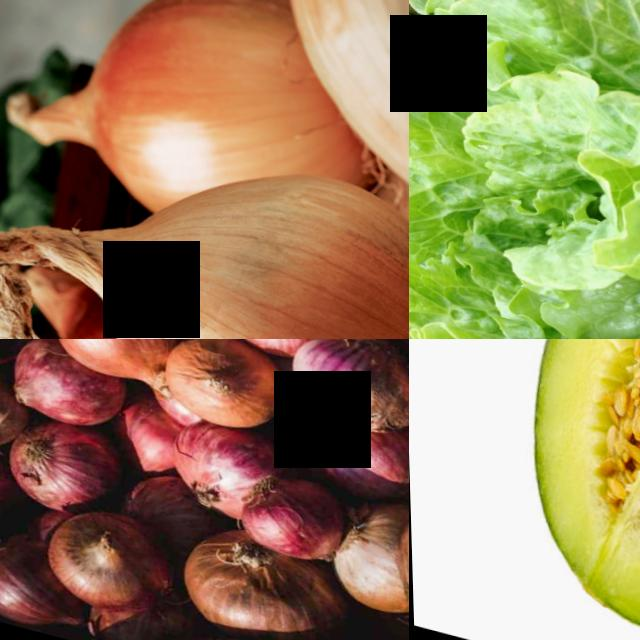lettuce: (409, 0, 640, 339)
melon: (470, 339, 640, 640)
onion: (114, 138, 409, 339), (63, 0, 300, 184), (162, 524, 353, 640), (36, 505, 177, 620), (152, 339, 290, 435), (280, 339, 409, 440), (155, 411, 277, 516), (0, 413, 120, 515), (0, 348, 125, 433), (225, 468, 339, 561), (46, 339, 186, 388), (0, 527, 53, 630)
